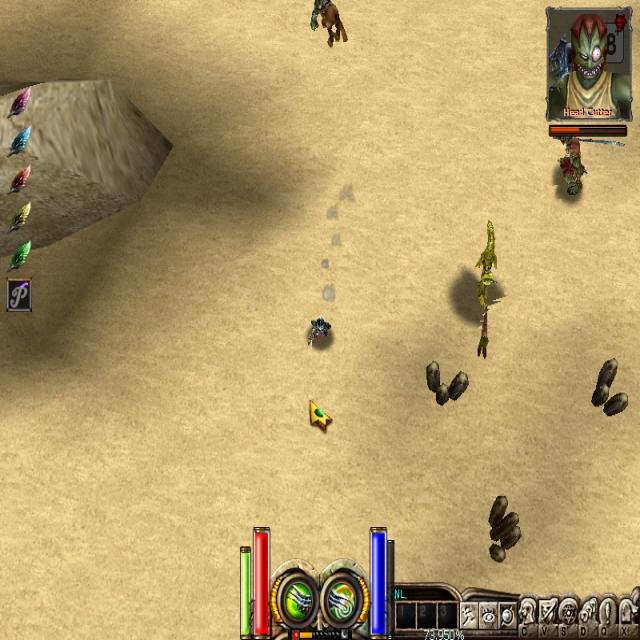monster: (448, 194, 524, 384)
